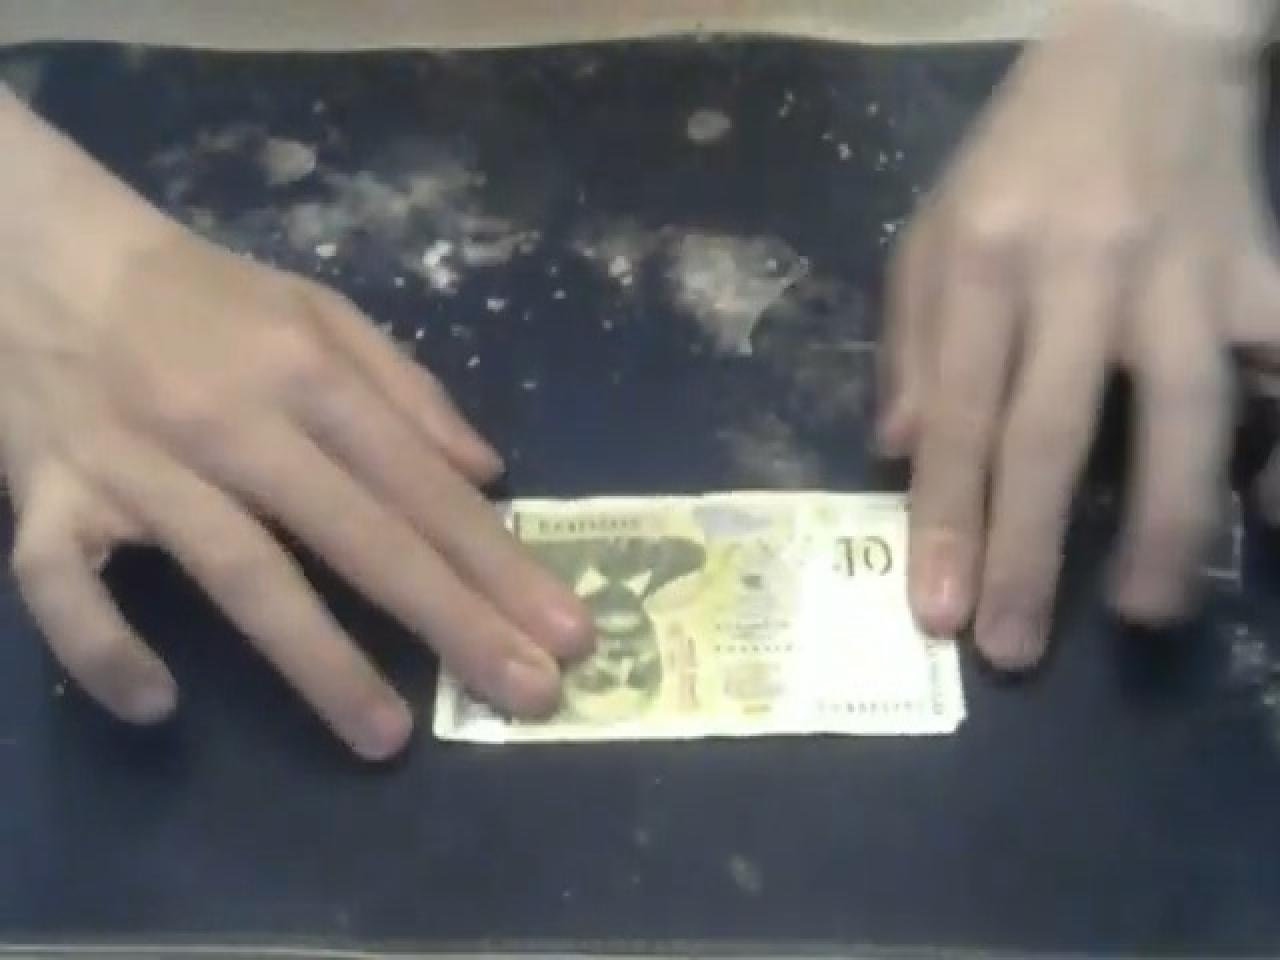10leva: (806, 522, 898, 611)
